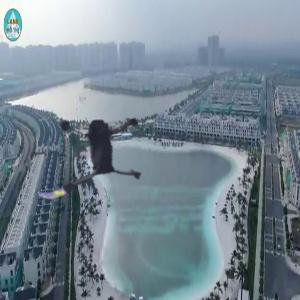drone: (16, 74, 162, 220)
